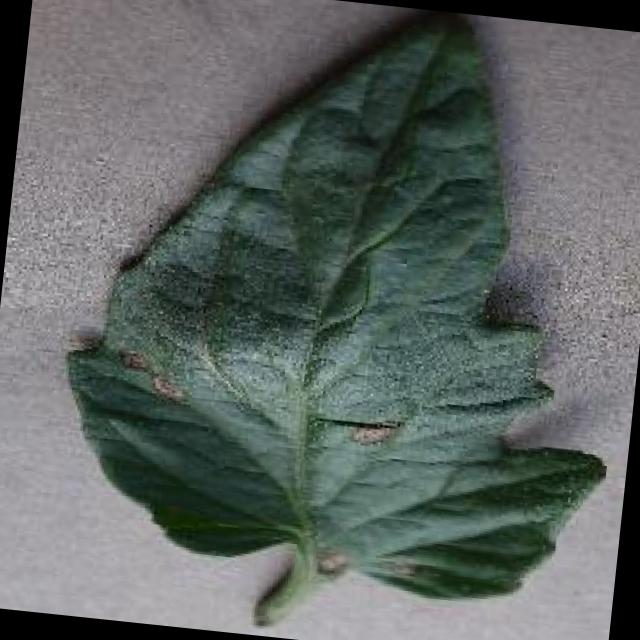Tomato_Early_Blight: (55, 179, 569, 616)
